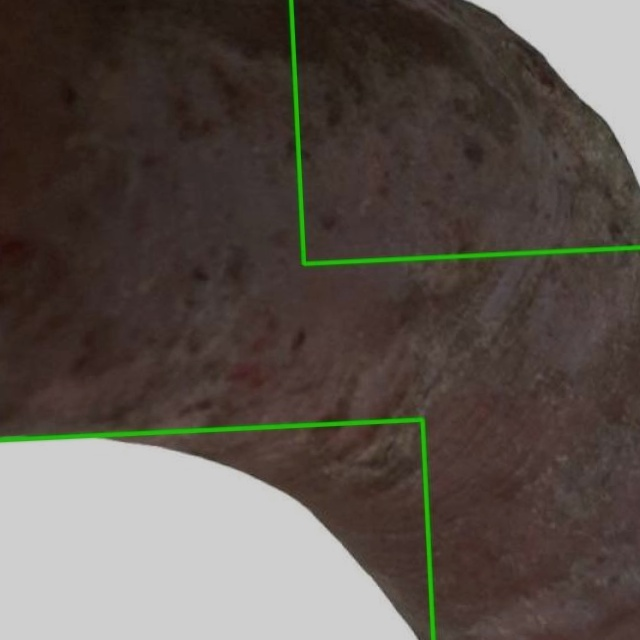Eczema: (0, 419, 433, 639), (291, 0, 639, 264)
